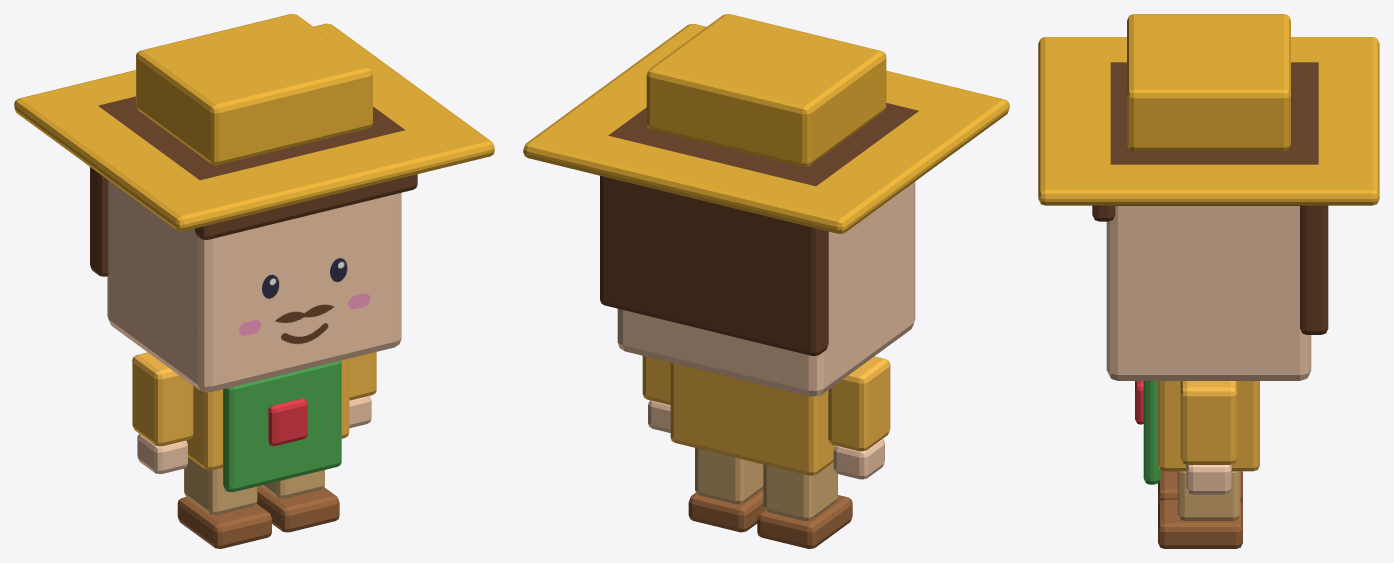
File: asset.glb
The picture shows the model from 3 angles, left to right: view 1: azimuth 30°, elevation 25°; view 2: azimuth 150°, elevation 25°; view 3: azimuth 270°, elevation 25°; orthographic projection.
Parts seen in each view (by area): view 1: head, hat_brim, hat_crown, apron, hair_top, arm_-1, hair_fringe, torso, shoe_-1, shoe_1, leg_-1, hair_back (+5 smaller); view 2: hair_back, hat_brim, hat_crown, head, torso, hair_top, arm_-1, leg_-1, leg_1, shoe_-1, shoe_1, hand_-1 (+2 smaller); view 3: head, hat_brim, hat_crown, hair_top, arm_1, torso, hair_back, shoe_1, leg_1, apron, hand_1, shoe_-1.
Part boxes in pixels (box(x1,y1,x2,y2)): head: box(107, 180, 401, 392); hat_brim: box(14, 23, 494, 231); hat_crown: box(136, 14, 372, 165); apron: box(223, 360, 341, 492); hair_top: box(98, 96, 405, 180); arm_-1: box(132, 352, 193, 446); hair_fringe: box(194, 174, 417, 239); torso: box(186, 358, 349, 470); shoe_-1: box(177, 497, 271, 548); shoe_1: box(256, 485, 339, 532); leg_-1: box(184, 457, 257, 515); hair_back: box(90, 167, 108, 276); hair_back: box(600, 175, 828, 355); hat_brim: box(523, 24, 1009, 233); hat_crown: box(646, 14, 886, 166); head: box(617, 182, 915, 396); torso: box(670, 362, 835, 475); hair_top: box(608, 103, 918, 186); arm_-1: box(828, 356, 890, 451); leg_-1: box(763, 462, 837, 521); leg_1: box(695, 448, 763, 504); shoe_-1: box(757, 495, 852, 548); shoe_1: box(688, 489, 763, 532); hand_-1: box(833, 439, 884, 479); head: box(1106, 206, 1311, 380); hat_brim: box(1038, 37, 1379, 205); hat_crown: box(1127, 14, 1290, 151); hair_top: box(1110, 62, 1318, 205); arm_1: box(1180, 381, 1237, 464); torso: box(1158, 381, 1259, 471); hair_back: box(1300, 205, 1328, 334); shoe_1: box(1158, 499, 1242, 548); leg_1: box(1177, 471, 1240, 520); apron: box(1143, 381, 1160, 484); hand_1: box(1186, 464, 1231, 494); shoe_-1: box(1158, 470, 1242, 505).
Bounding box in the file's own units: 0.66 × 0.91 × 0.6.
Materials: 9 (1 with a texture image).
